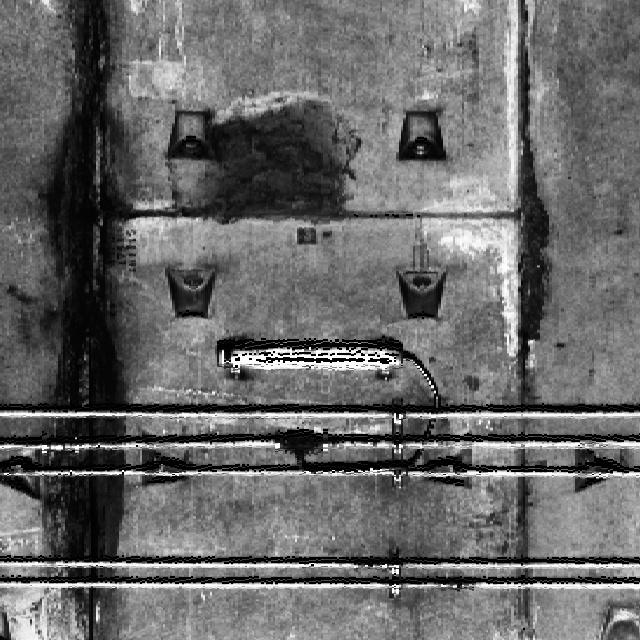leakage: (29, 0, 138, 639), (493, 0, 549, 400), (195, 99, 357, 223)
